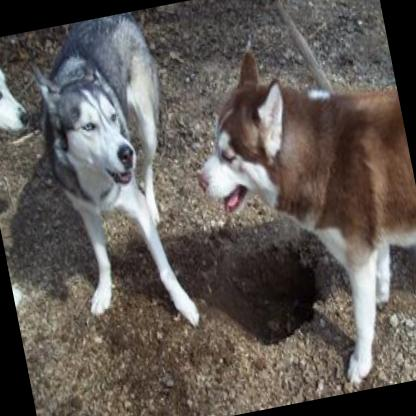Siberian_husky: (169, 23, 416, 409), (19, 9, 204, 348), (0, 36, 31, 137)
